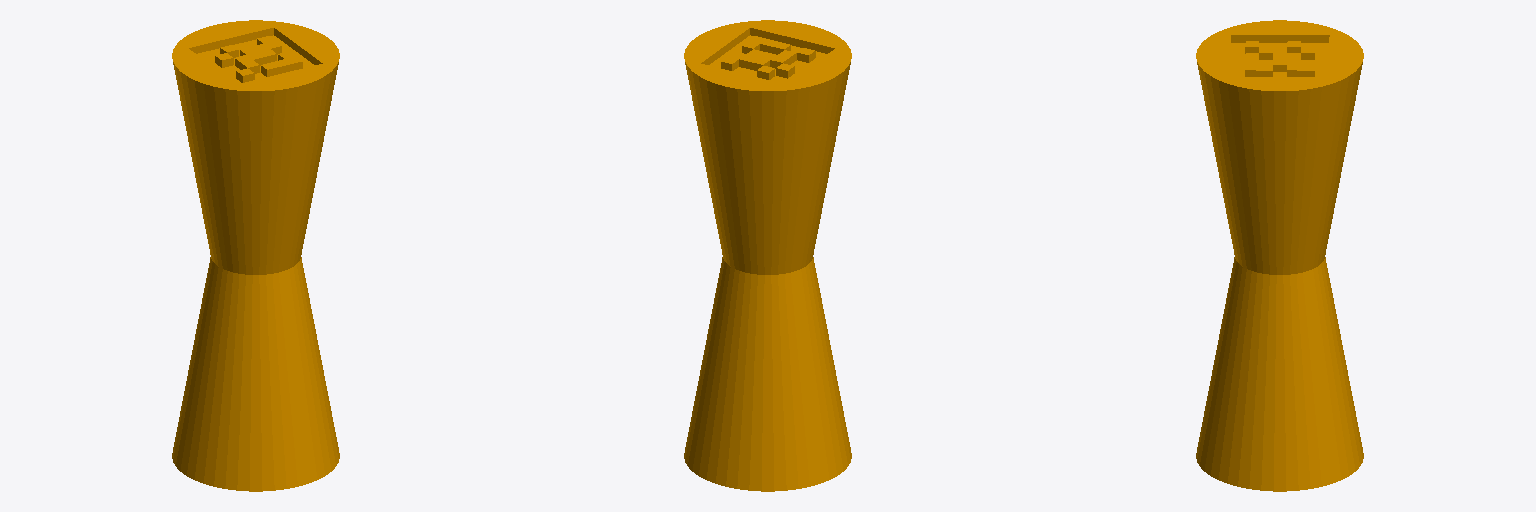
URDF robot description (20_r_hourglass):
<?xml version="1.0" ?>
<robot name="20_r_hourglass">

    <link name="20_r_hourglass">
        <visual>
            <origin rpy="1.5707963267948966 0 0" xyz="0 0 0"/>
            <geometry>
                <mesh filename="Shapes/20_r_hourglass.STL" scale="1 1 1"/>
            </geometry>
        </visual>
        <collision>
            <geometry>
                <mesh filename="Shapes/20_r_hourglass.STL" scale="1 1 1"/>
            </geometry>
        </collision>
    </link>

</robot>

--- Facts derived from the render (not from the file) ---
The picture shows the robot from 3 angles, left to right: view 1: azimuth 30°, elevation 25°; view 2: azimuth 150°, elevation 25°; view 3: azimuth 270°, elevation 25°; orthographic projection.
Model 20_r_hourglass with 1 links and 0 joints (none), rooted at 20_r_hourglass, posed every joint at zero.
Visible links, largest first — view 1: 20_r_hourglass; view 2: 20_r_hourglass; view 3: 20_r_hourglass.
Boxes of the visible links, left/top/right/bottom form: 20_r_hourglass: left=172, top=20, right=339, bottom=491; 20_r_hourglass: left=684, top=20, right=851, bottom=491; 20_r_hourglass: left=1196, top=20, right=1363, bottom=491.
Size in the robot's own frame: 39.89 by 40 by 105 metres.
1 mesh visuals loaded from 1 distinct referenced files (1 binary STL).
